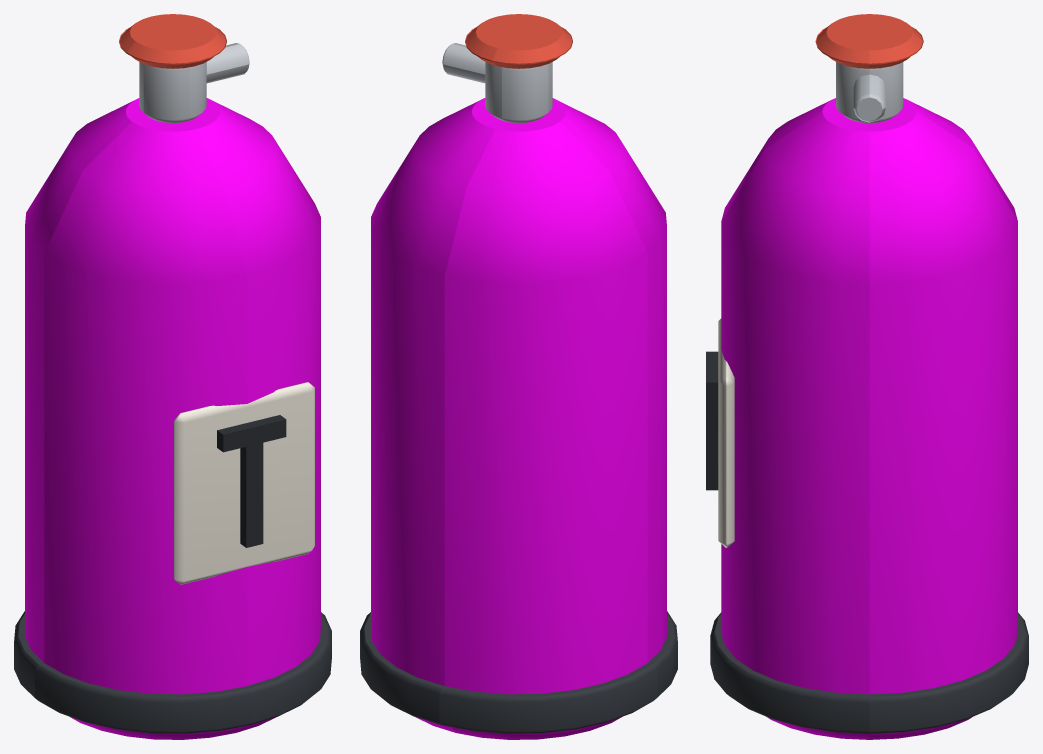
File: objet_tritium.glb
3 views of the same model, side by side, from view 1: azimuth 30°, elevation 25°; view 2: azimuth 150°, elevation 25°; view 3: azimuth 270°, elevation 25° (orthographic).
Visible parts, largest first — view 1: bonbonne_teinte.006, bonbonne_etiquette.004, bonbonne_teinte_sombre.006, bonbonne_composant_clair.006, bonbonne_led_rouge.004, bonbonne_composant.004; view 2: bonbonne_teinte.006, bonbonne_teinte_sombre.006, bonbonne_composant_clair.006, bonbonne_led_rouge.004; view 3: bonbonne_teinte.006, bonbonne_teinte_sombre.006, bonbonne_led_rouge.004, bonbonne_composant_clair.006, bonbonne_etiquette.004, bonbonne_composant.004.
Part boxes in pixels (bbox=[...]): bonbonne_teinte.006: bbox=[25, 98, 320, 739]; bonbonne_etiquette.004: bbox=[174, 382, 314, 584]; bonbonne_teinte_sombre.006: bbox=[14, 611, 331, 733]; bonbonne_composant_clair.006: bbox=[139, 43, 249, 122]; bonbonne_led_rouge.004: bbox=[119, 14, 226, 68]; bonbonne_composant.004: bbox=[217, 415, 286, 547]; bonbonne_teinte.006: bbox=[371, 98, 666, 739]; bonbonne_teinte_sombre.006: bbox=[360, 611, 677, 733]; bonbonne_composant_clair.006: bbox=[442, 43, 552, 122]; bonbonne_led_rouge.004: bbox=[465, 14, 572, 68]; bonbonne_teinte.006: bbox=[721, 98, 1017, 739]; bonbonne_teinte_sombre.006: bbox=[710, 612, 1028, 733]; bonbonne_led_rouge.004: bbox=[815, 14, 923, 68]; bonbonne_composant_clair.006: bbox=[836, 62, 903, 122]; bonbonne_etiquette.004: bbox=[718, 318, 734, 547]; bonbonne_composant.004: bbox=[706, 351, 718, 490].
Bounding box in the file's own units: 0.118 × 0.2675 × 0.1196.
